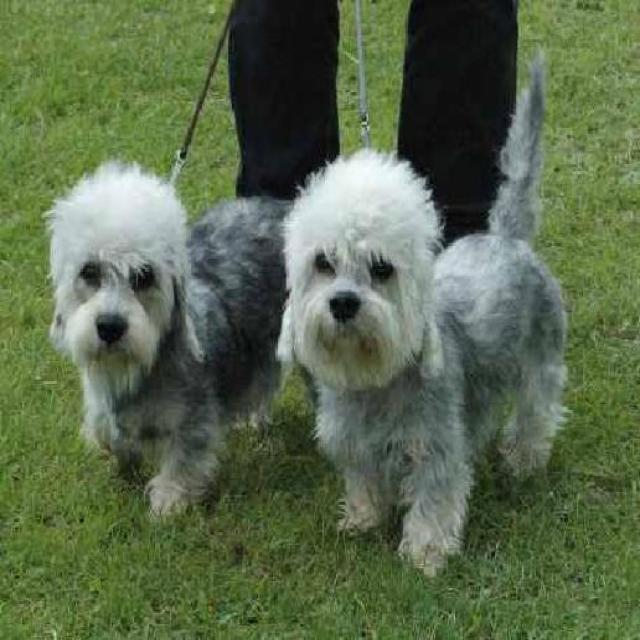dandie_dinmont: (280, 61, 563, 578), (30, 144, 285, 534)
